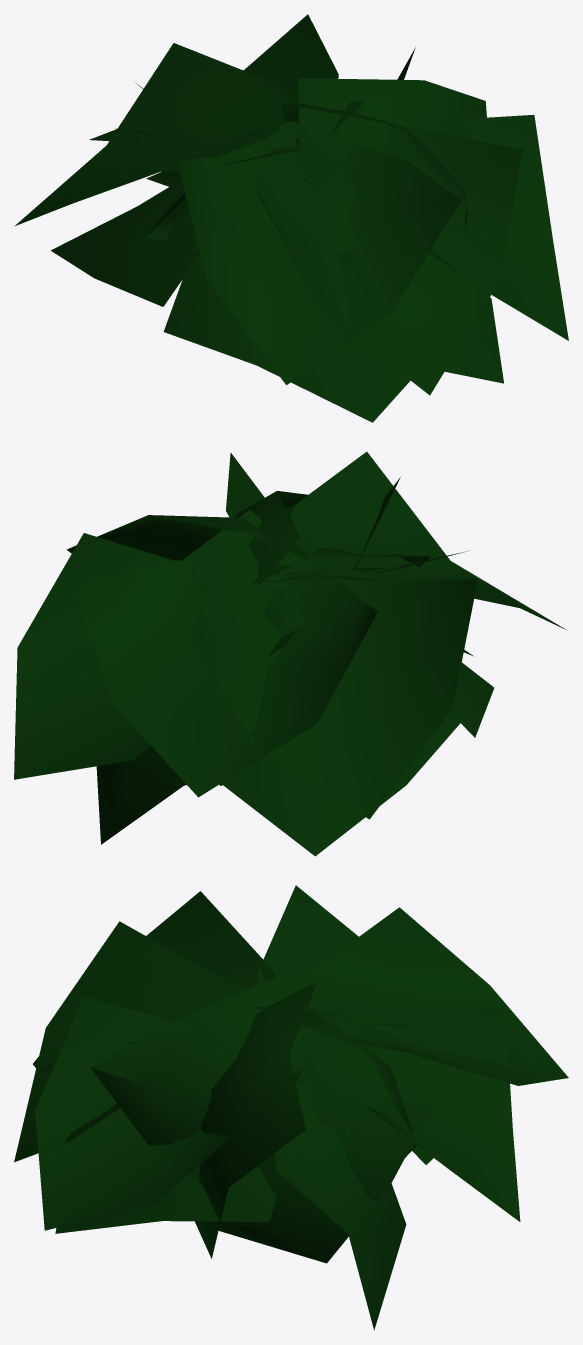
File: Bush_01.fbx
The picture shows the model from 3 angles, top to bottom: view 1: azimuth 30°, elevation 25°; view 2: azimuth 150°, elevation 25°; view 3: azimuth 270°, elevation 25°; orthographic projection. The views are drawn at different scales.
Visible parts, largest first — view 1: bush_01_LOD0; view 2: bush_01_LOD0; view 3: bush_01_LOD0.
Part boxes in pixels (x1,y1,x2,y2): bush_01_LOD0: [14, 14, 568, 422]; bush_01_LOD0: [14, 451, 566, 856]; bush_01_LOD0: [14, 885, 568, 1330].
Size of what is drawn, in the model's own units: 224 by 156 by 262.
